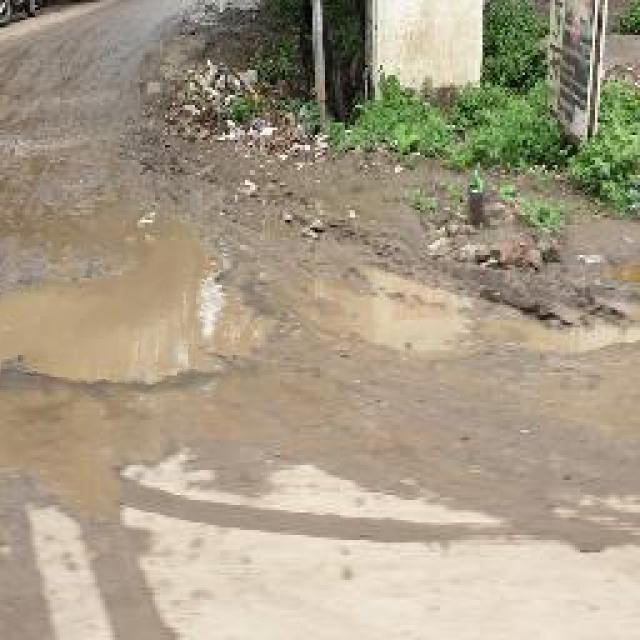puddle: (1, 240, 238, 396)
